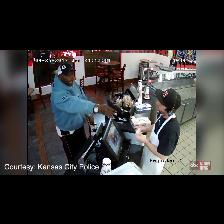person: (51, 63, 115, 163), (135, 89, 181, 174)
